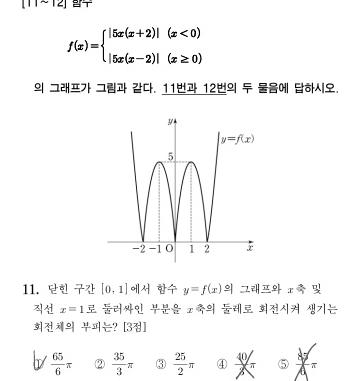choice: (29, 352, 47, 372)
not-choice: (276, 357, 291, 371), (93, 357, 106, 371), (153, 357, 166, 371), (214, 357, 228, 370)
